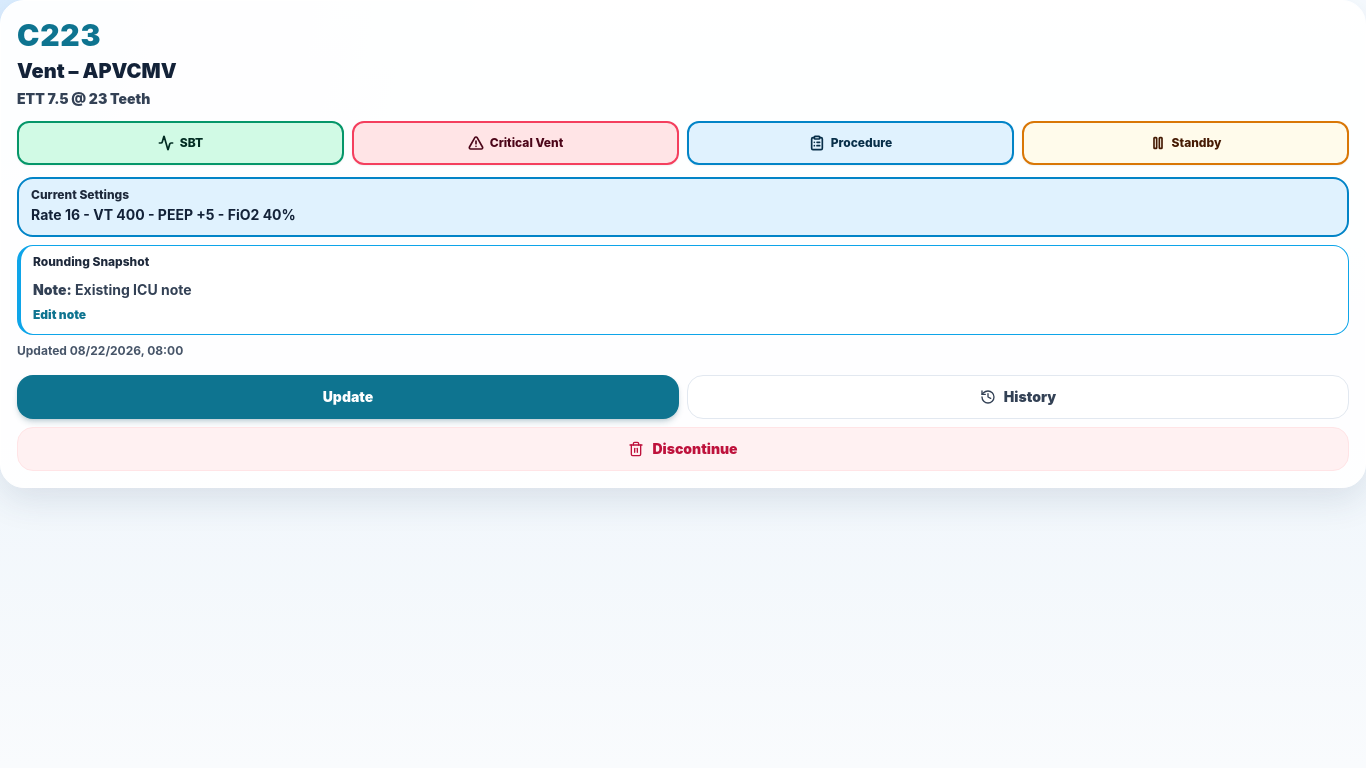
Test: IcuPatientCard Vent actions › restores the saved display when an edit is canceled
Click the button "Edit note" at (60,315), box [33,307,86,323]
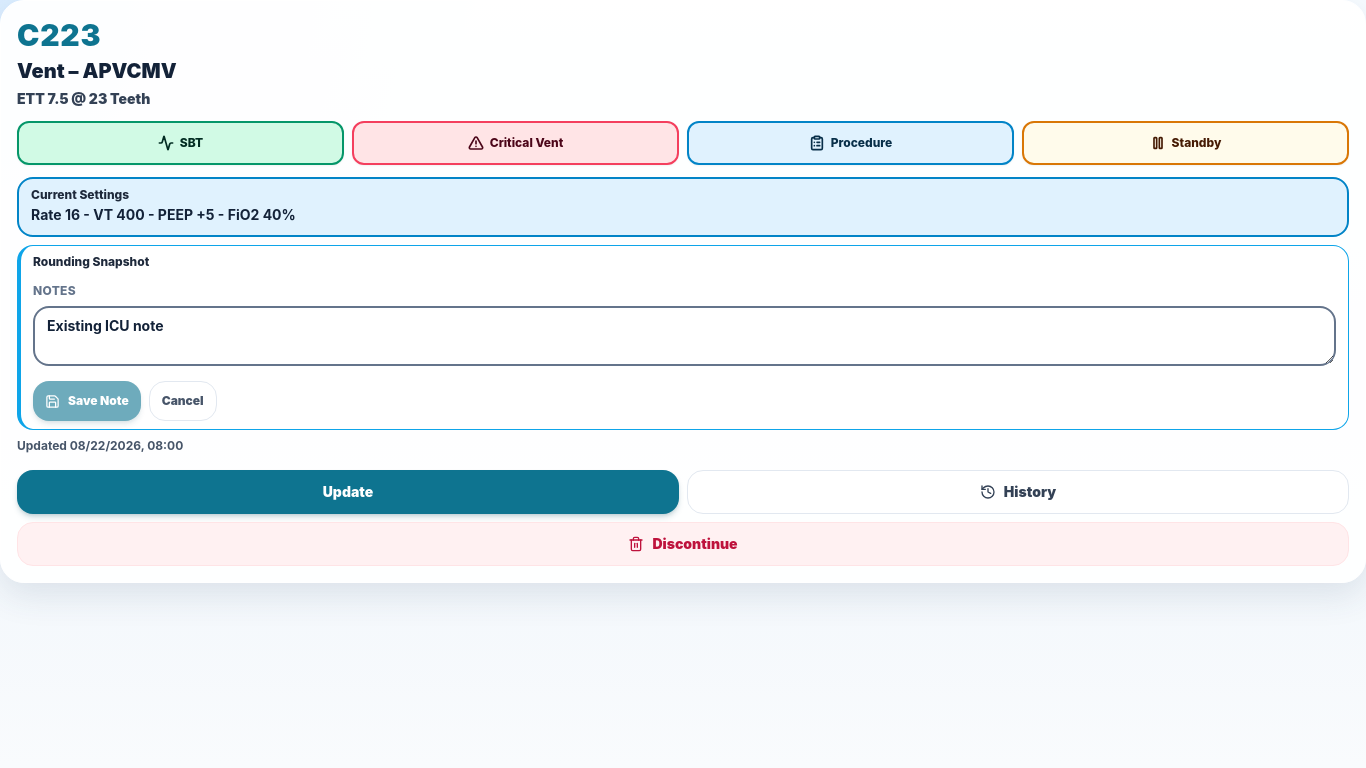
Replace the text in the text box labelled "Notes" with "Unsaved replacement" at (684,336), box [33,306,1336,366]
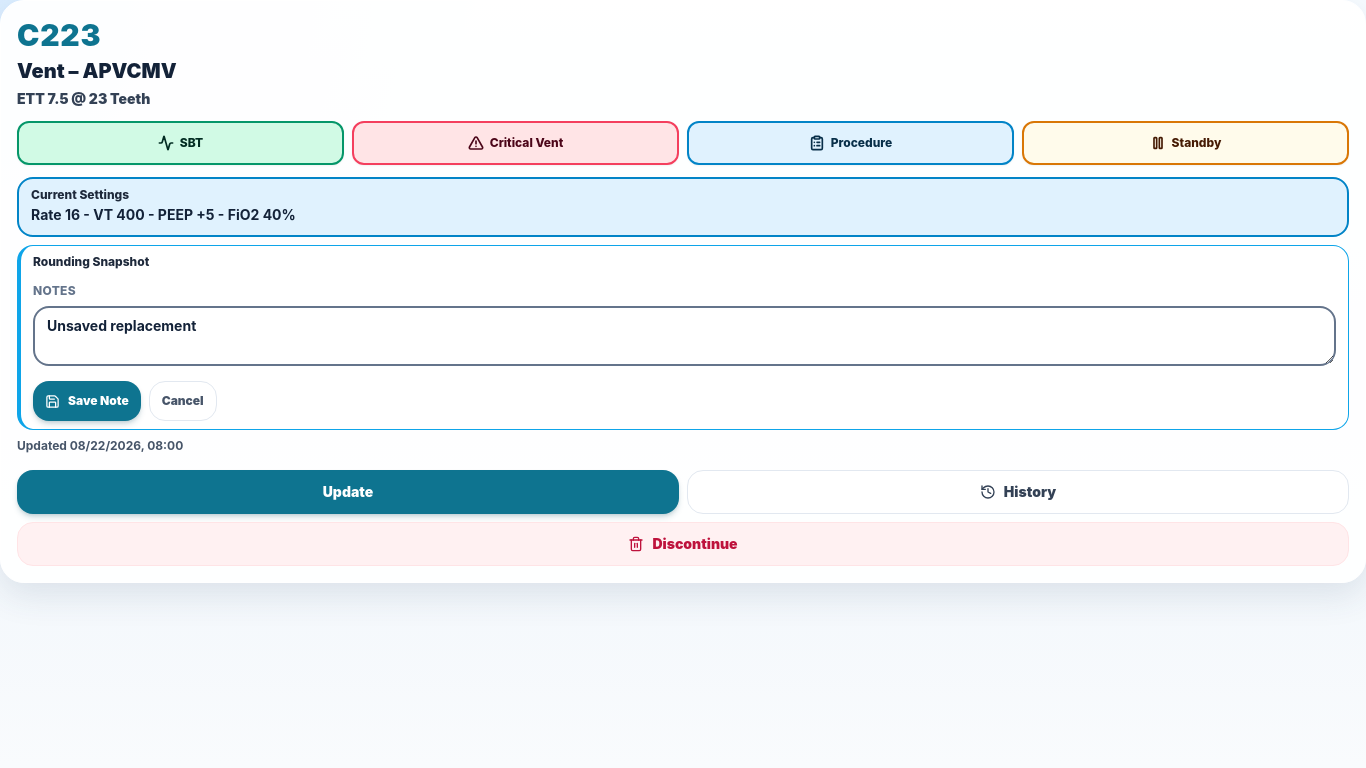
Click the button "Cancel" at (183,401), box [149,381,217,421]
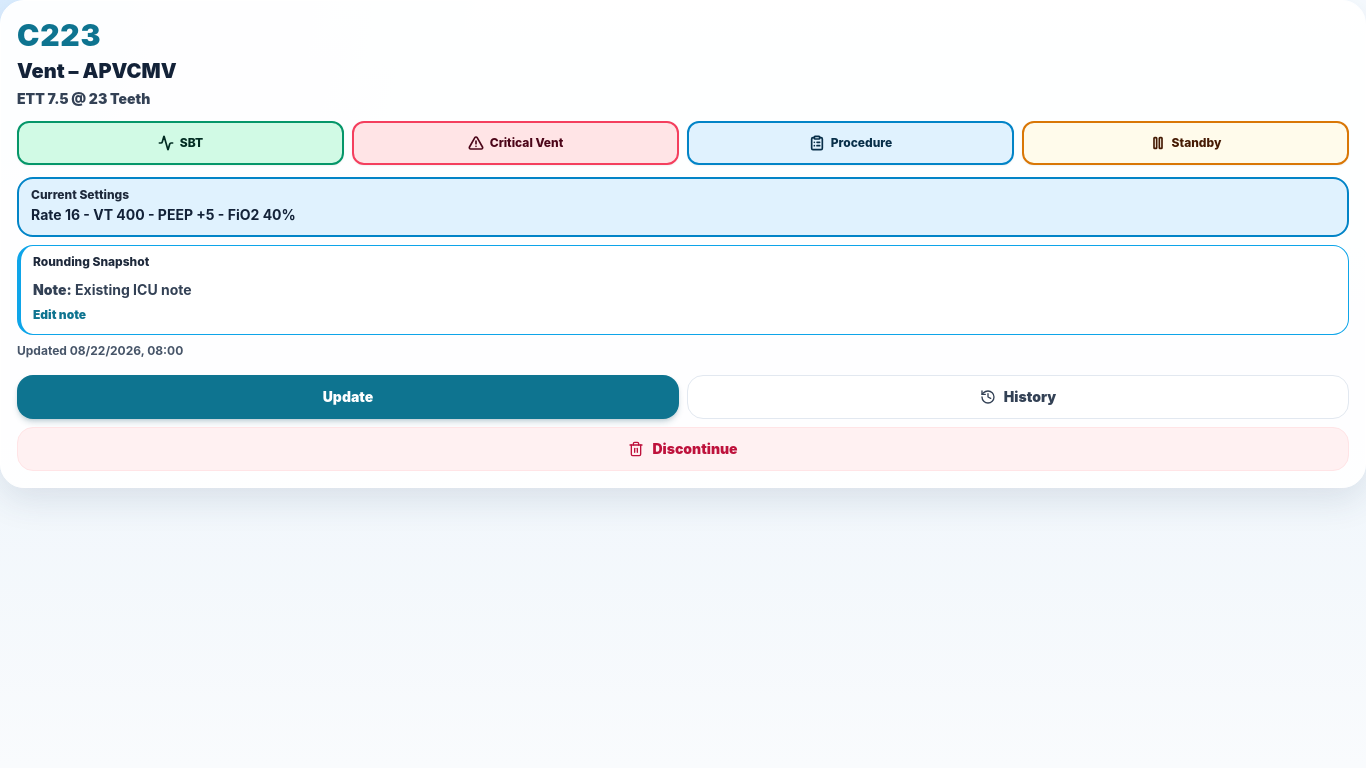
Now the element that starts with "C223" shows "Note: Existing ICU note"
Now the text labelled "Notes" is gone
